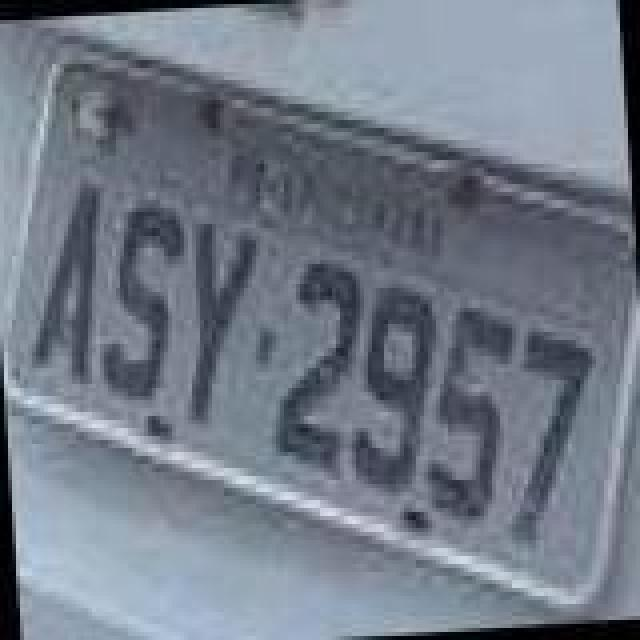2: (262, 260, 378, 476)
5: (414, 300, 530, 516)
7: (496, 320, 608, 544)
9: (342, 288, 450, 496)
A: (14, 186, 114, 390)
S: (92, 202, 196, 398)
Y: (174, 216, 274, 424)
